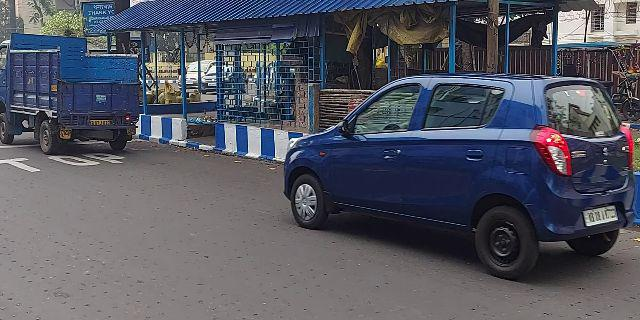Car: (284, 70, 631, 287)
Minitruck: (1, 35, 147, 156)
